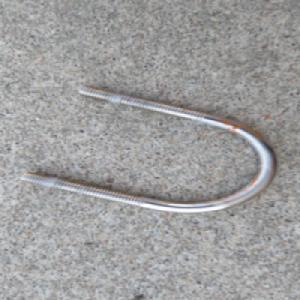ClampPart: (20, 83, 280, 214)
